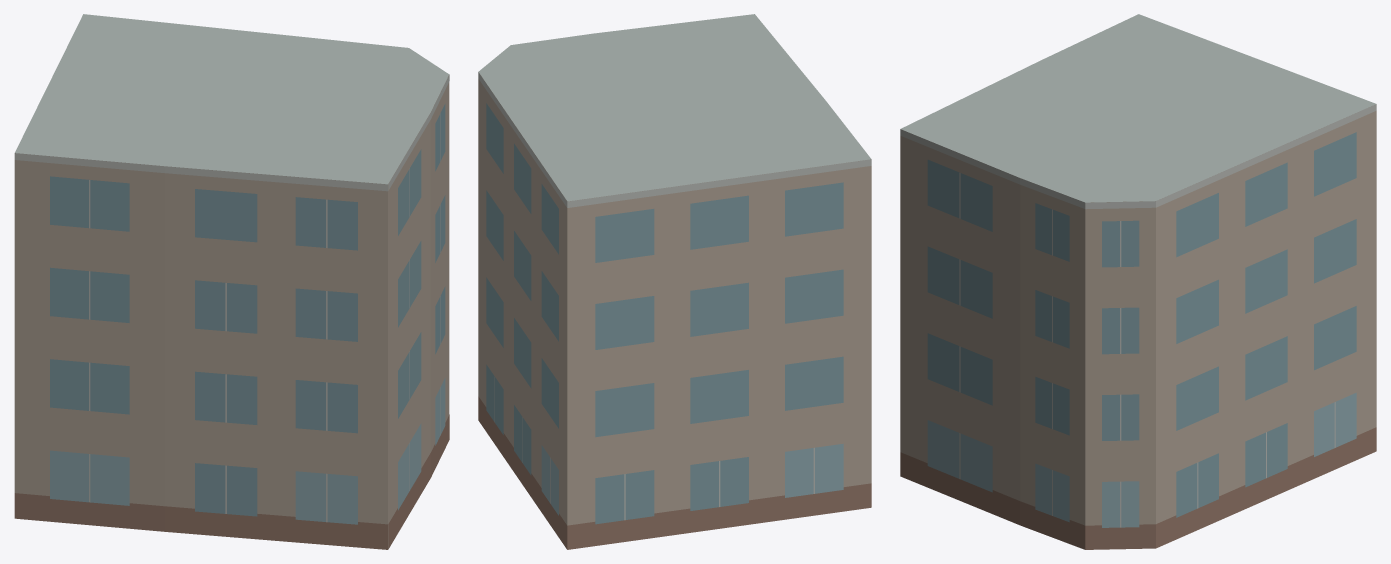
The model's file is survey-upis-32537813.glb.
3 renders of one model, left to right at view 1: azimuth 30°, elevation 25°; view 2: azimuth 150°, elevation 25°; view 3: azimuth 270°, elevation 25°, orthographic. The views are drawn at different scales.
Parts seen in each view (by area): view 1: survey-upis-32537813.tmp; view 2: survey-upis-32537813.tmp; view 3: survey-upis-32537813.tmp.
Boxes of the visible parts, x1,y1,x2,y2 form: survey-upis-32537813.tmp: [14, 14, 449, 549]; survey-upis-32537813.tmp: [478, 14, 871, 549]; survey-upis-32537813.tmp: [900, 14, 1376, 549].
Bounding box in the file's own units: 14.91 × 12.8 × 15.92.
